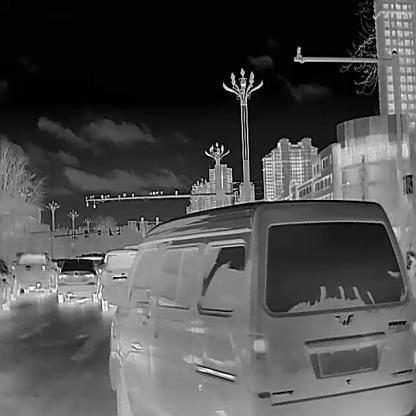car: (108, 199, 415, 415), (97, 249, 138, 311), (13, 250, 56, 292), (56, 259, 97, 302), (0, 258, 18, 311)
